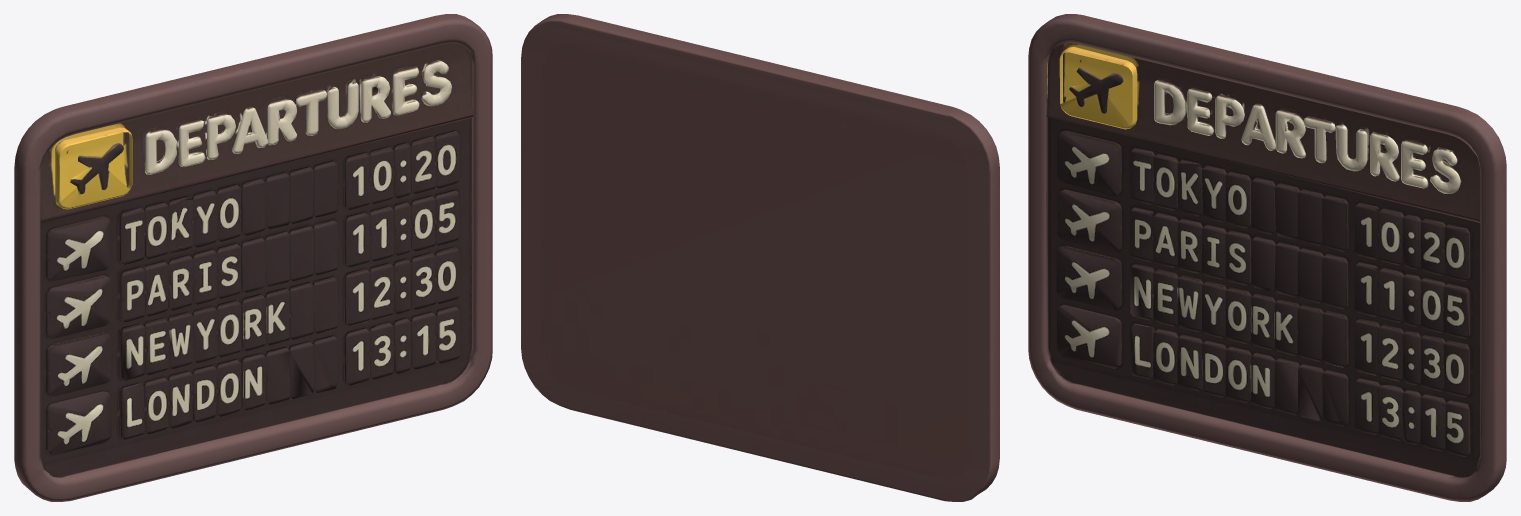
The model's file is airport-flight-board.glb.
3 views of the same model, side by side, from view 1: azimuth 30°, elevation 25°; view 2: azimuth 150°, elevation 25°; view 3: azimuth 330°, elevation 25° (orthographic).
Size of the model in its own units: 0.957 by 0.7545 by 0.0493.
1 material, 1 textured.
